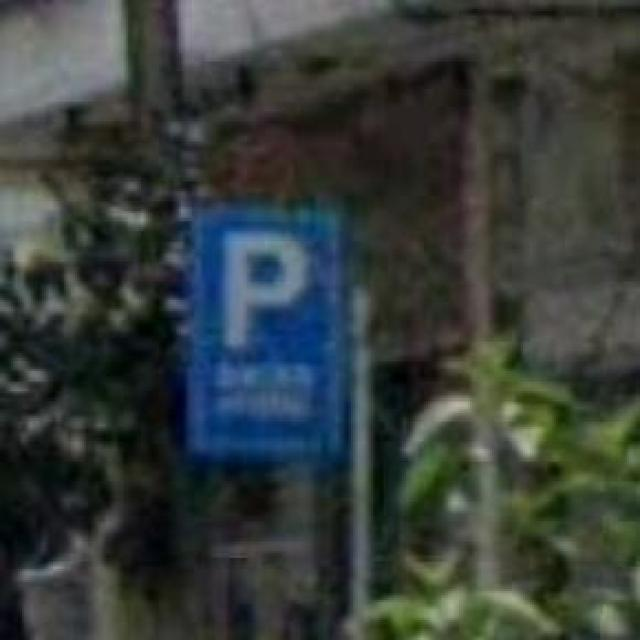traffic sign: (186, 204, 345, 459)
